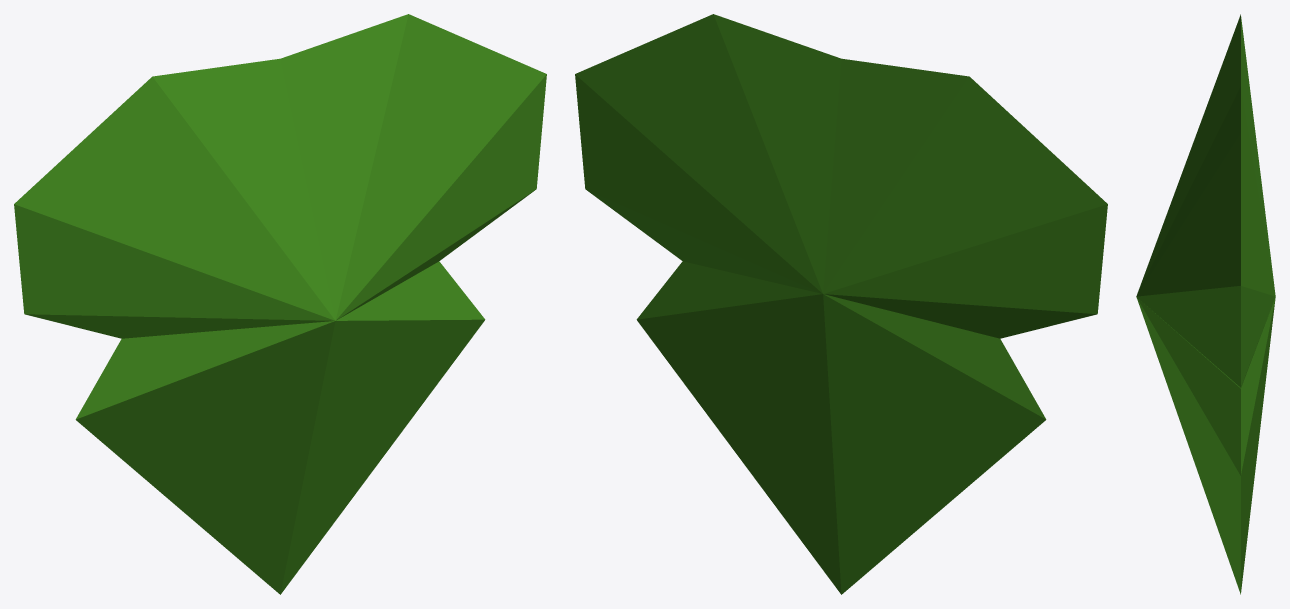
Rendered from cliff-vine-leaf.glb.
3 views of the same model, side by side, from view 1: azimuth 30°, elevation 25°; view 2: azimuth 150°, elevation 25°; view 3: azimuth 270°, elevation 25° (orthographic). The views are drawn at different scales.
Parts seen in each view (by area): view 1: Cupped ivy leaf; view 2: Cupped ivy leaf; view 3: Cupped ivy leaf.
Part boxes in pixels (box(x1,y1,x2,y2)): Cupped ivy leaf: box(14, 14, 546, 594); Cupped ivy leaf: box(575, 14, 1107, 594); Cupped ivy leaf: box(1136, 14, 1275, 594).
Size of the model in its own units: 0.1508 by 0.1486 by 0.036.
